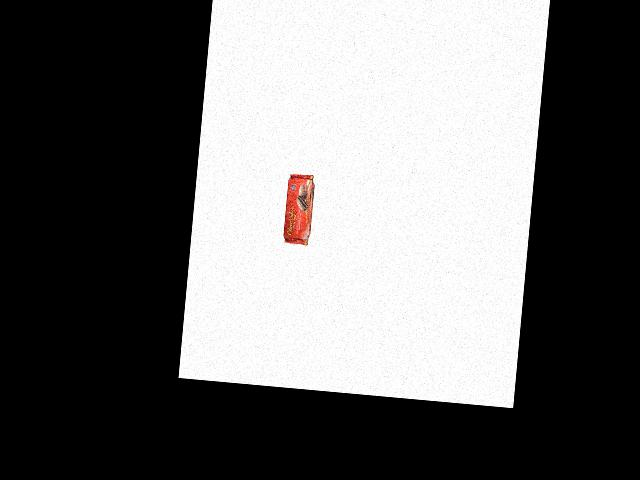chocolate: (282, 171, 322, 246)
